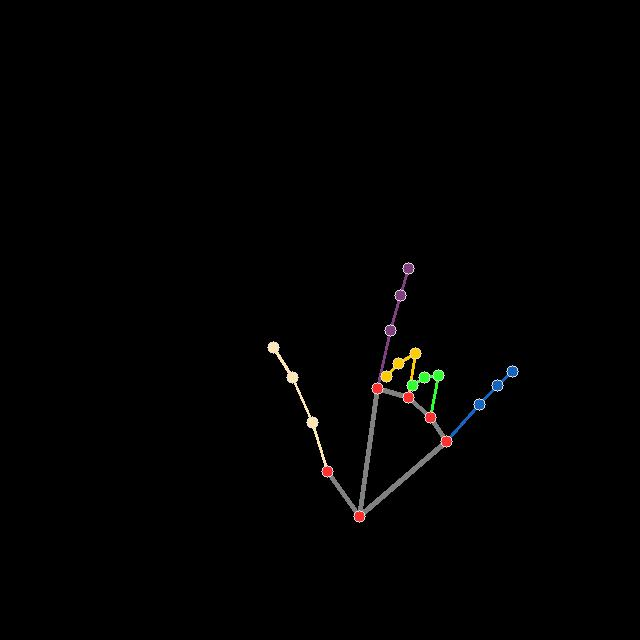spiderman: (268, 263, 517, 522)
